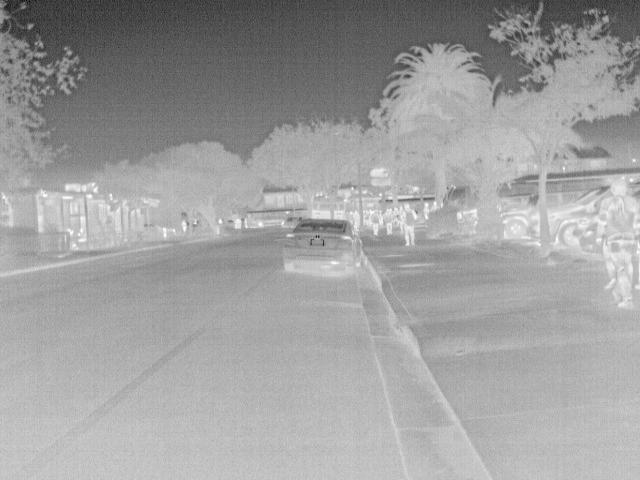car: (281, 220, 365, 278), (546, 183, 612, 246), (502, 206, 537, 240), (575, 222, 603, 255), (452, 205, 478, 238), (280, 216, 303, 228)
person: (593, 179, 639, 311), (399, 200, 419, 246), (61, 225, 81, 252), (367, 209, 383, 236), (380, 207, 395, 235), (72, 228, 87, 242), (177, 218, 190, 234)
